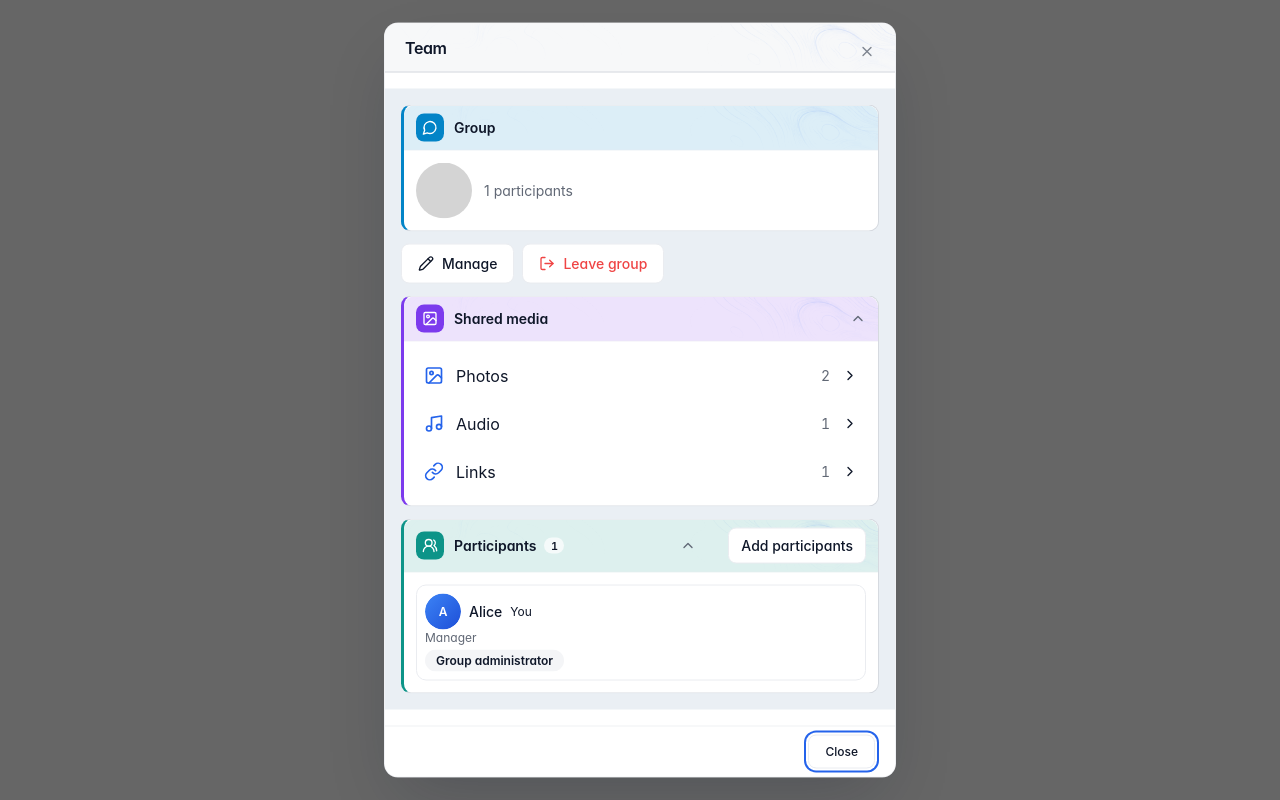
allows cropping the current group photo through its authenticated URL
Click the button "Manage". click: (458, 264)
box: [401, 244, 514, 284]
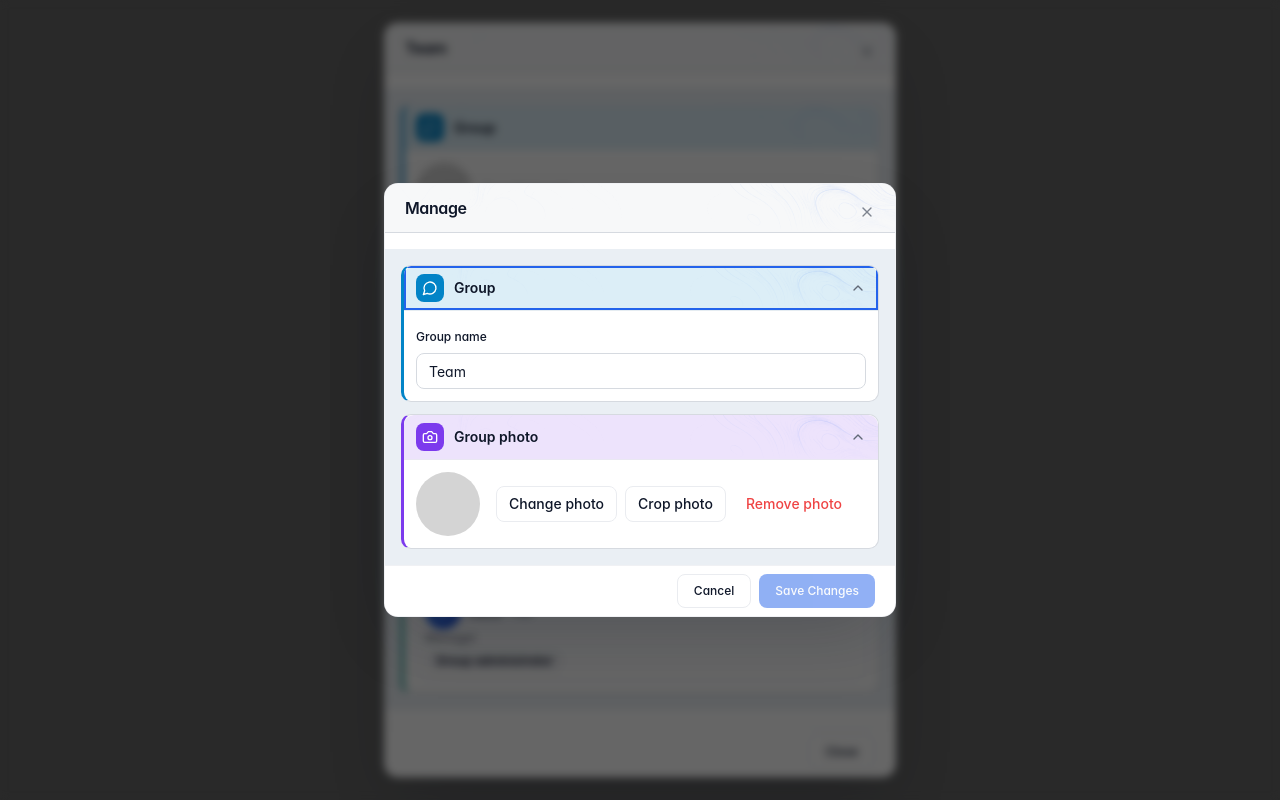
Click the button "Crop photo". click: (675, 504)
box: [625, 486, 726, 522]
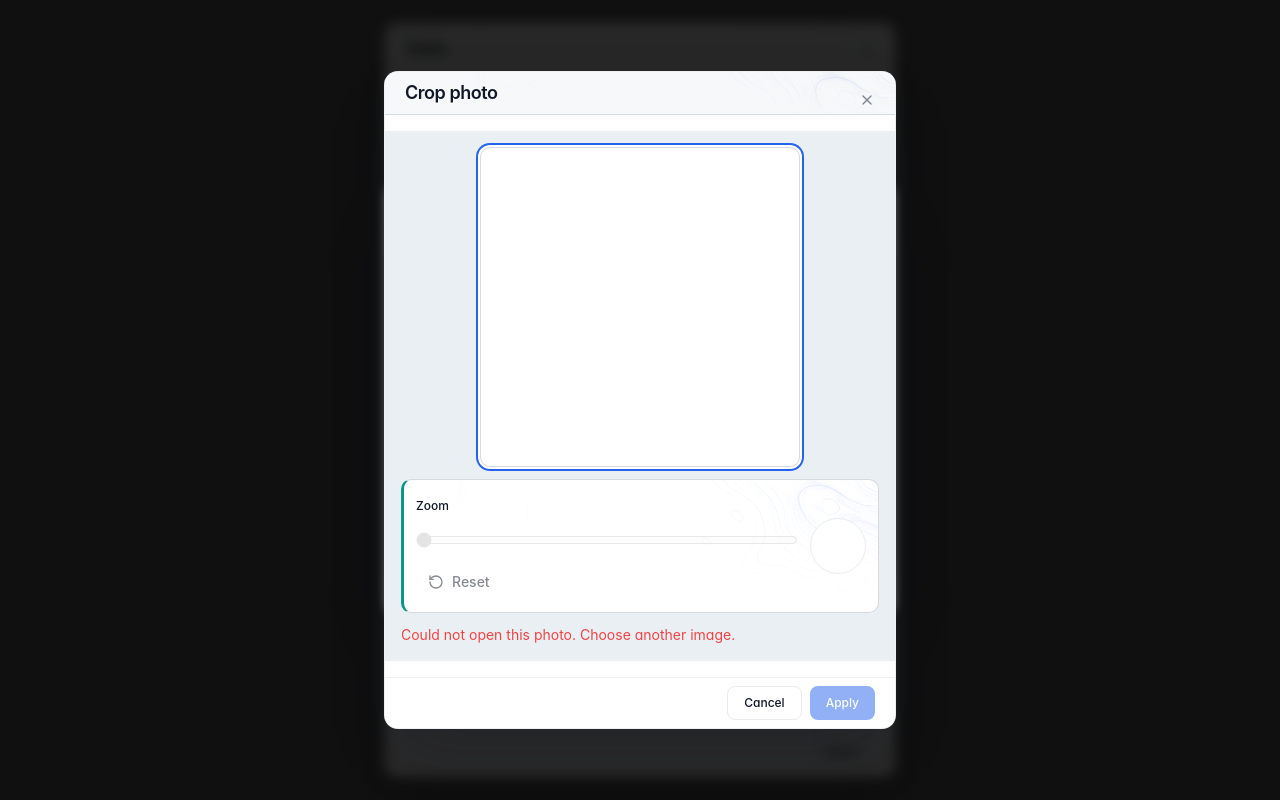
Result: the dialog "Crop photo" is shown at [384, 71, 896, 729]
